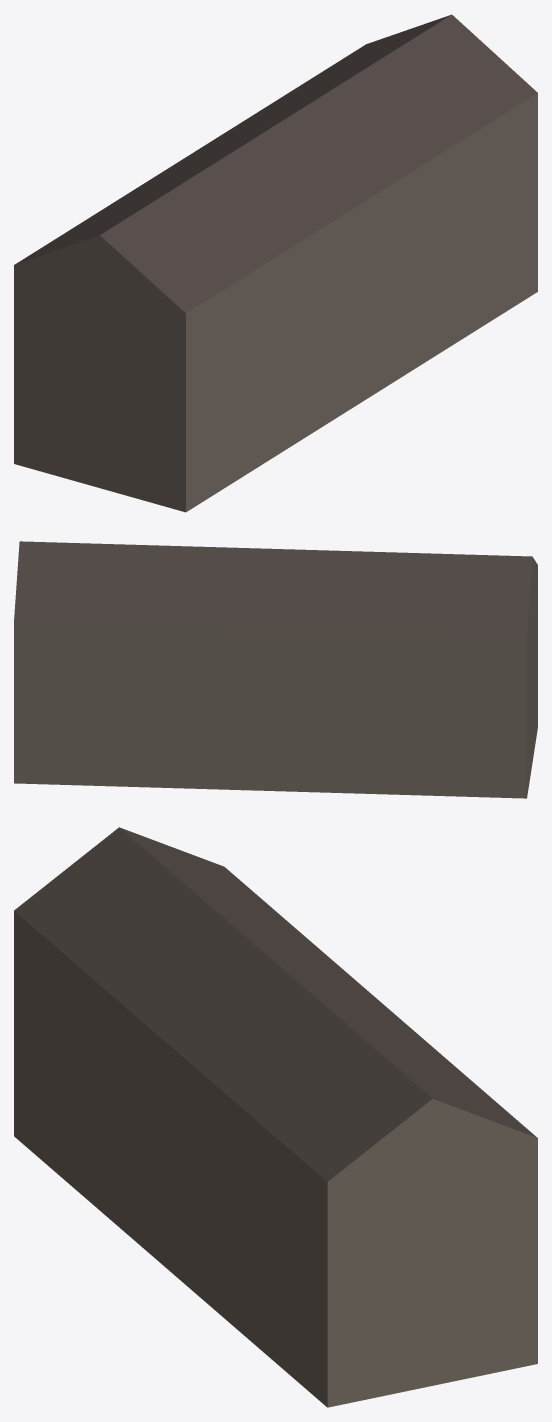
3 views of the same model, one above another, from view 1: azimuth 30°, elevation 25°; view 2: azimuth 150°, elevation 25°; view 3: azimuth 270°, elevation 25° (orthographic). The views are drawn at different scales.
Visible parts, largest first — view 1: HP-w373833601; view 2: HP-w373833601; view 3: HP-w373833601.
Part boxes in pixels (x1=…): HP-w373833601: x1=14, y1=14, x2=537, y2=512; HP-w373833601: x1=14, y1=541, x2=537, y2=798; HP-w373833601: x1=14, y1=827, x2=537, y2=1407.
Size of the model in its own units: 26.97 by 11.45 by 18.94.
